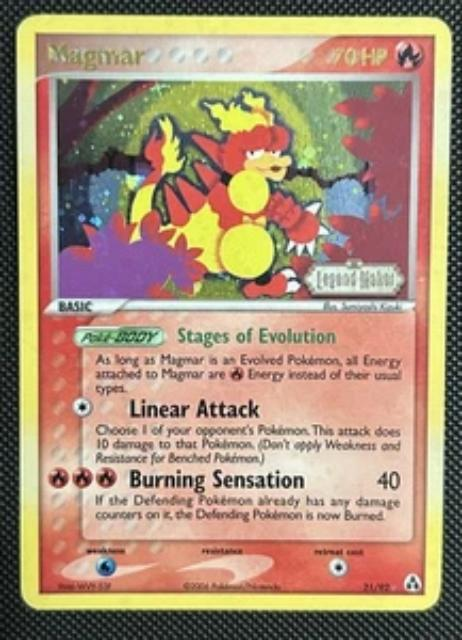Card: (12, 9, 457, 616)
Name: (42, 41, 150, 74)
